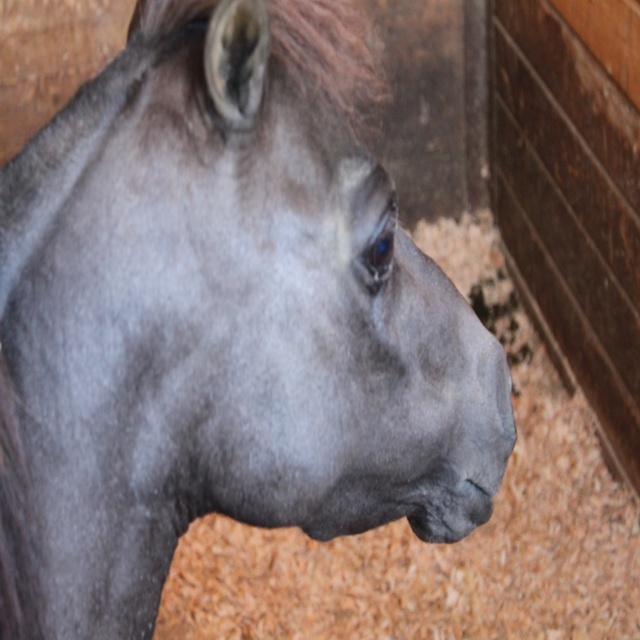Horse: (0, 0, 516, 639)
